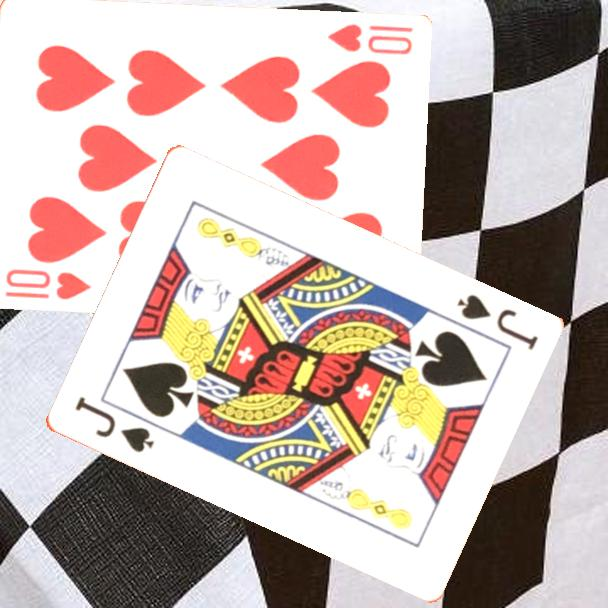h10: (1, 266, 93, 303), (324, 21, 415, 58)
s11: (453, 291, 541, 354), (70, 393, 157, 456)
